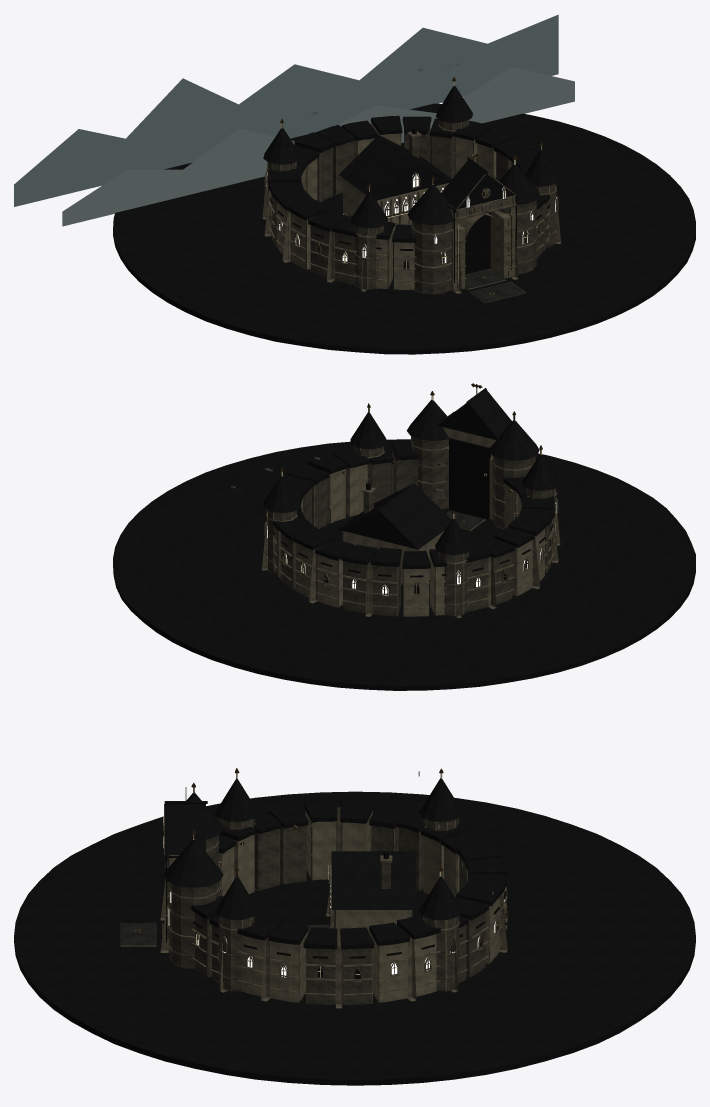
The model's file is first-light-citadel.desktop.glb.
3 views of the same model, one above another, from view 1: azimuth 30°, elevation 25°; view 2: azimuth 150°, elevation 25°; view 3: azimuth 270°, elevation 25° (orthographic). The views are drawn at different scales.
Visible parts, largest first — view 1: Terrain, Far Carpathians, Gate gable left roof edge, Gate buttress setback cap L, Near ridge, VS01_Threshold_ROOT, Gate upper beam, Approach stone 1; view 2: Terrain, Gate gable left roof edge, Gate buttress setback cap L, VS01_Threshold_ROOT, Gate upper beam; view 3: Terrain, Gate gable left roof edge, Gate buttress setback cap L, Gate upper beam, VS01_Threshold_ROOT, Approach stone 1.
Boxes of the visible parts, left/top/right/bottom form: Terrain: left=113, top=103, right=695, bottom=354; Far Carpathians: left=14, top=14, right=558, bottom=206; Gate gable left roof edge: left=263, top=86, right=559, bottom=242; Gate buttress setback cap L: left=268, top=119, right=556, bottom=294; Near ridge: left=62, top=67, right=574, bottom=226; VS01_Threshold_ROOT: left=262, top=77, right=561, bottom=303; Gate upper beam: left=278, top=124, right=514, bottom=289; Approach stone 1: left=465, top=269, right=525, bottom=303; Terrain: left=113, top=439, right=695, bottom=690; Gate gable left roof edge: left=263, top=388, right=559, bottom=568; Gate buttress setback cap L: left=266, top=436, right=555, bottom=616; VS01_Threshold_ROOT: left=262, top=383, right=560, bottom=618; Gate upper beam: left=296, top=427, right=544, bottom=616; Terrain: left=14, top=791, right=695, bottom=1085; Gate gable left roof edge: left=164, top=778, right=506, bottom=949; Gate buttress setback cap L: left=167, top=818, right=489, bottom=1004; Gate upper beam: left=169, top=810, right=503, bottom=1002; VS01_Threshold_ROOT: left=120, top=768, right=507, bottom=1008; Approach stone 1: left=120, top=922, right=329, bottom=946.
Size of the model in its own units: 67.93 by 15.56 by 62.94.
15 materials, 9 textured.
